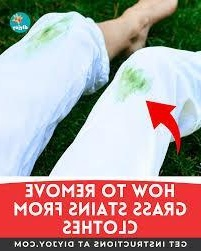earth: (123, 71, 144, 91), (36, 25, 60, 41)
